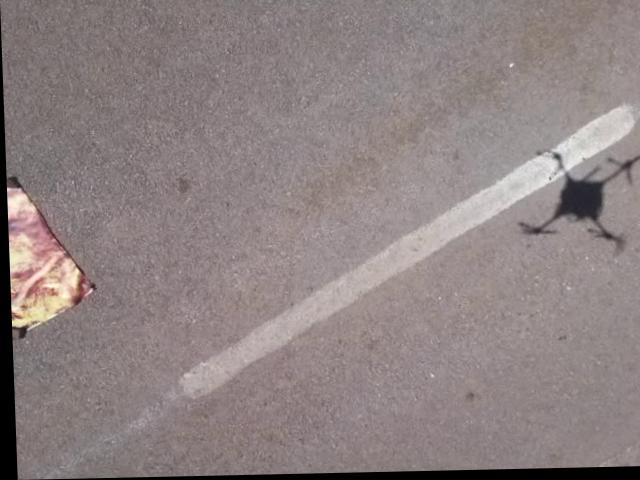fire-poster: (5, 172, 97, 343)
